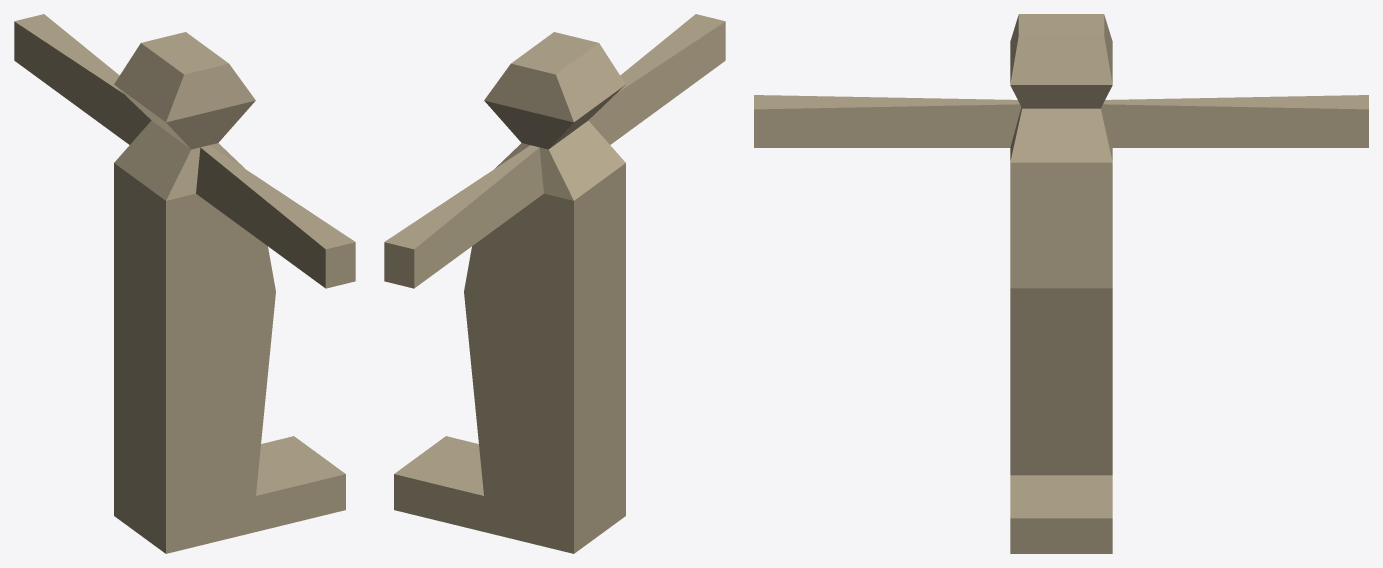
Rendered from Human.fbx.
The picture shows the model from 3 angles, left to right: view 1: azimuth 30°, elevation 25°; view 2: azimuth 150°, elevation 25°; view 3: azimuth 270°, elevation 25°; orthographic projection.
Visible parts, largest first — view 1: Cube; view 2: Cube; view 3: Cube.
Part boxes in pixels (left/top/right/bottom): Cube: left=14, top=14, right=355, bottom=553; Cube: left=384, top=14, right=725, bottom=553; Cube: left=754, top=14, right=1368, bottom=553.
Size of the model in its own units: 40 by 100 by 120.
